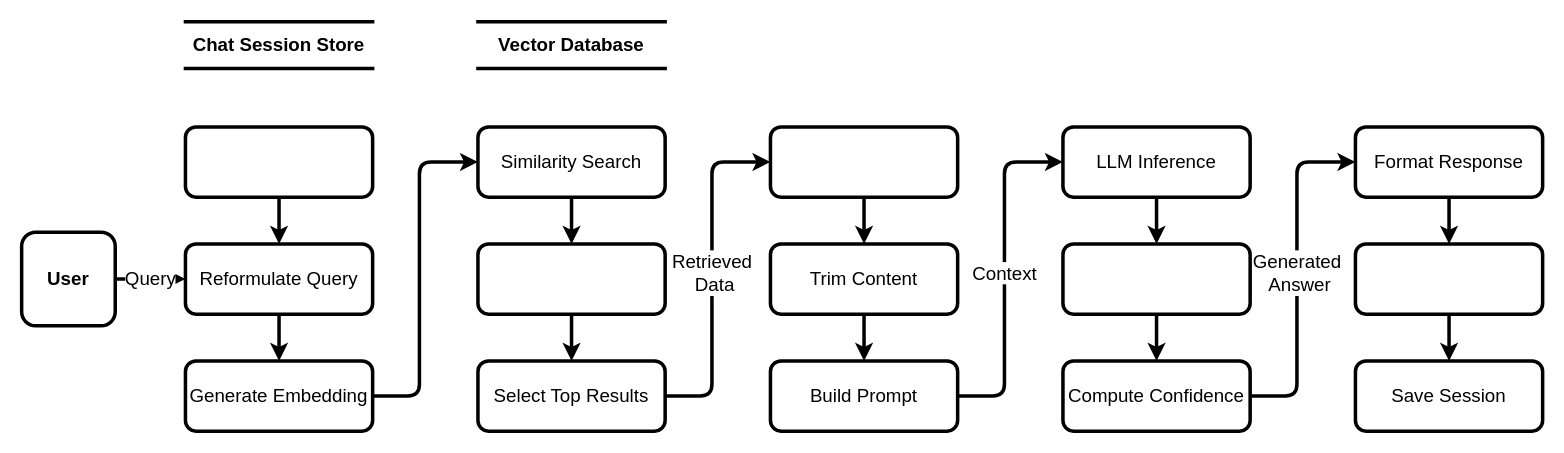
This 1564x453 diagram has some shape labels left out. The shapes that lost their labels are listed below. From the top down, each one's centre as x and y in pixels, then its label:
At pixel 278 161: "Load Chat History".
At pixel 863 161: "Remove Duplicates".
At pixel 571 278: "Rank Results".
At pixel 1156 278: "Stream Output".
At pixel 1448 278: "Generate Suggestions".
